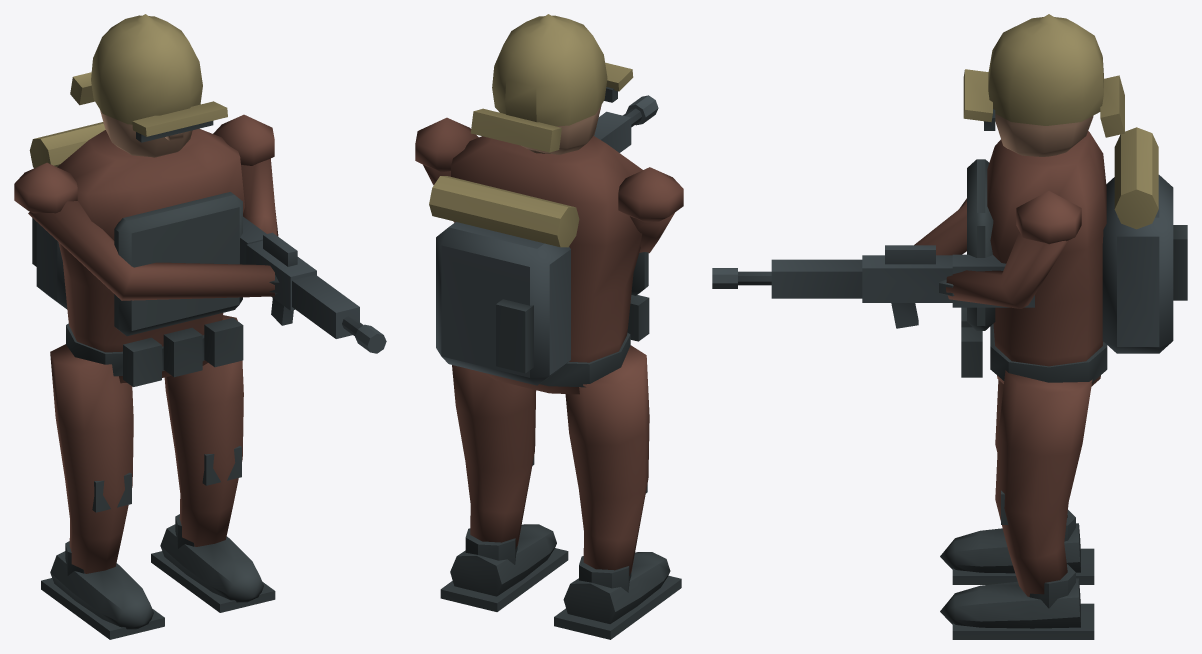
The model's file is rifleman.glb.
3 renders of one model, left to right at view 1: azimuth 30°, elevation 25°; view 2: azimuth 150°, elevation 25°; view 3: azimuth 270°, elevation 25°, orthographic. The views are drawn at different scales.
Parts seen in each view (by area): view 1: Uniform, Gear, Helmet, LeftLeg limb, RightLeg limb, Weapon, RightLeg boot, LeftLeg boot, Skin; view 2: Uniform, Helmet, Weapon, LeftLeg limb, RightLeg limb, RightLeg boot, LeftLeg boot, Gear, Skin; view 3: Uniform, Weapon, Helmet, RightLeg limb, RightLeg boot, Gear, LeftLeg boot, Skin.
Boxes of the visible parts, x1,y1,x2,y2 form: Uniform: [14, 114, 278, 383]; Gear: [32, 121, 279, 386]; Helmet: [29, 14, 227, 168]; LeftLeg limb: [50, 344, 133, 573]; RightLeg limb: [164, 315, 243, 546]; Weapon: [36, 216, 386, 353]; RightLeg boot: [151, 446, 275, 612]; LeftLeg boot: [41, 472, 164, 639]; Skin: [100, 110, 192, 157]; Uniform: [415, 117, 683, 394]; Helmet: [429, 14, 633, 247]; Weapon: [436, 95, 658, 385]; LeftLeg limb: [565, 345, 649, 575]; RightLeg limb: [452, 365, 536, 548]; RightLeg boot: [440, 456, 568, 611]; LeftLeg boot: [554, 484, 681, 639]; Gear: [496, 87, 649, 387]; Skin: [521, 105, 601, 154]; Uniform: [914, 131, 1106, 386]; Weapon: [712, 175, 1173, 353]; Helmet: [963, 14, 1158, 229]; RightLeg limb: [995, 370, 1092, 596]; RightLeg boot: [940, 490, 1094, 639]; Gear: [939, 109, 1187, 383]; LeftLeg boot: [940, 510, 1094, 584]; Skin: [995, 114, 1093, 156].
Size of the model in its own units: 1.05 by 2.29 by 1.68.
